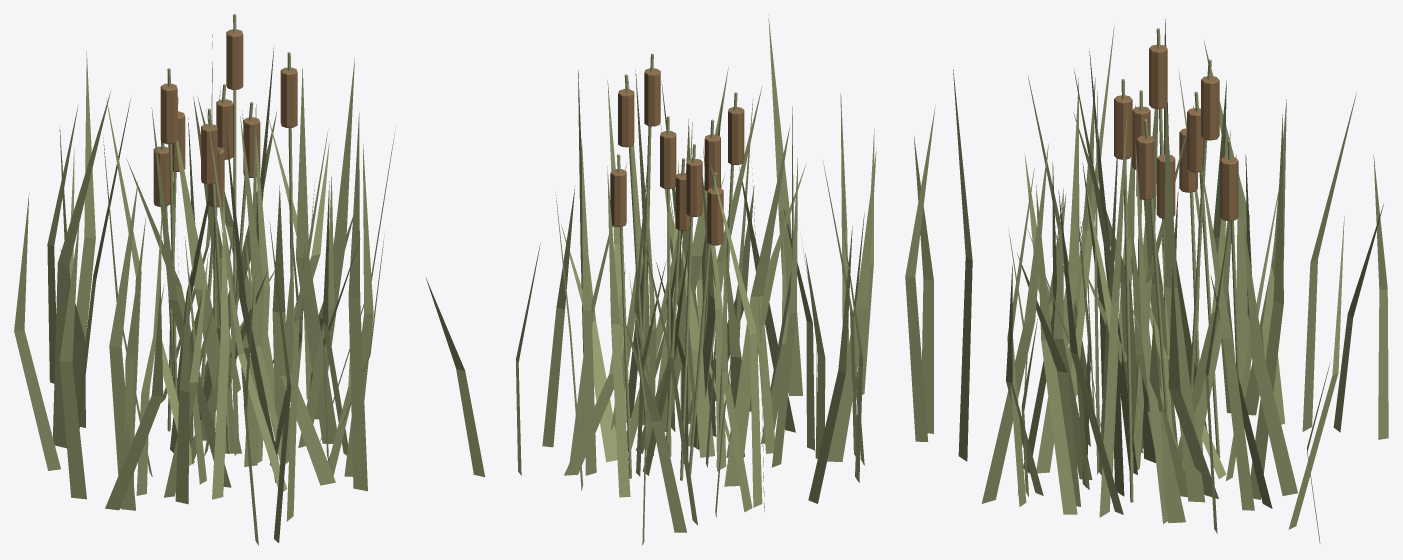
The model's file is Reeds.fbx.
3 views of the same model, side by side, from view 1: azimuth 30°, elevation 25°; view 2: azimuth 150°, elevation 25°; view 3: azimuth 270°, elevation 25° (orthographic). The views are drawn at different scales.
Visible parts, largest first — view 1: Reeds; view 2: Reeds; view 3: Reeds.
Boxes of the visible parts, <box> form: Reeds: <box>14,14,395,545</box>; Reeds: <box>426,15,876,545</box>; Reeds: <box>905,19,1388,543</box>.
Bounding box in the file's own units: 1.74 × 1.78 × 1.81.
